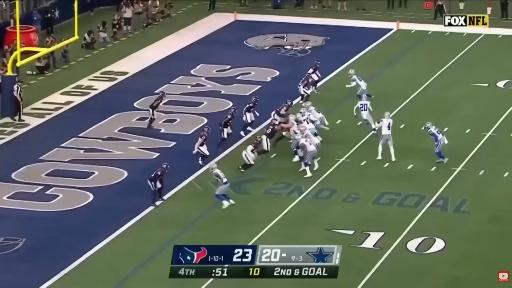Helmet: (299, 107, 307, 115), (286, 99, 293, 107), (252, 95, 259, 103), (204, 126, 211, 133), (230, 107, 237, 114), (298, 125, 305, 132), (296, 135, 303, 142), (303, 102, 311, 108), (162, 163, 168, 170), (425, 123, 432, 129), (348, 70, 355, 76), (255, 136, 262, 142), (289, 115, 296, 121), (210, 164, 217, 170), (384, 112, 390, 118), (306, 73, 312, 79), (159, 92, 166, 97), (272, 120, 279, 125), (314, 60, 319, 66), (361, 95, 367, 100)
Jersey: (303, 131, 320, 147), (428, 127, 444, 143), (378, 118, 393, 135), (148, 168, 165, 183), (212, 169, 228, 184), (299, 77, 313, 94), (351, 75, 367, 89), (355, 101, 371, 115), (275, 104, 289, 118), (265, 124, 278, 139), (300, 116, 315, 129), (150, 96, 163, 110), (308, 65, 320, 80), (243, 101, 256, 114), (221, 114, 233, 128), (301, 139, 315, 151), (308, 107, 323, 118), (14, 84, 22, 102), (306, 112, 318, 124), (198, 132, 208, 146), (250, 142, 260, 154), (98, 24, 107, 36), (291, 122, 298, 134)
Player: (210, 164, 234, 208), (376, 112, 395, 161), (425, 123, 448, 163), (148, 163, 168, 206), (305, 106, 329, 140), (354, 95, 376, 132), (239, 136, 262, 171), (218, 107, 237, 148), (258, 119, 280, 154), (240, 96, 259, 136), (299, 138, 317, 177), (346, 70, 371, 98), (193, 127, 211, 165), (303, 102, 328, 129), (275, 115, 299, 143), (148, 92, 165, 127), (299, 126, 320, 151), (304, 113, 322, 140), (271, 100, 293, 122), (300, 127, 320, 150), (280, 115, 299, 138), (308, 61, 321, 93), (299, 74, 313, 102), (291, 135, 302, 162), (298, 107, 309, 120)
